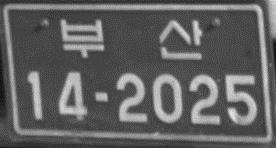-: (91, 89, 110, 105)
0: (149, 71, 185, 125)
1: (24, 68, 46, 121)
2: (114, 70, 149, 125), (187, 72, 221, 128)
4: (56, 69, 88, 122)
5: (222, 72, 259, 126)
부산_D: (58, 15, 204, 62)
